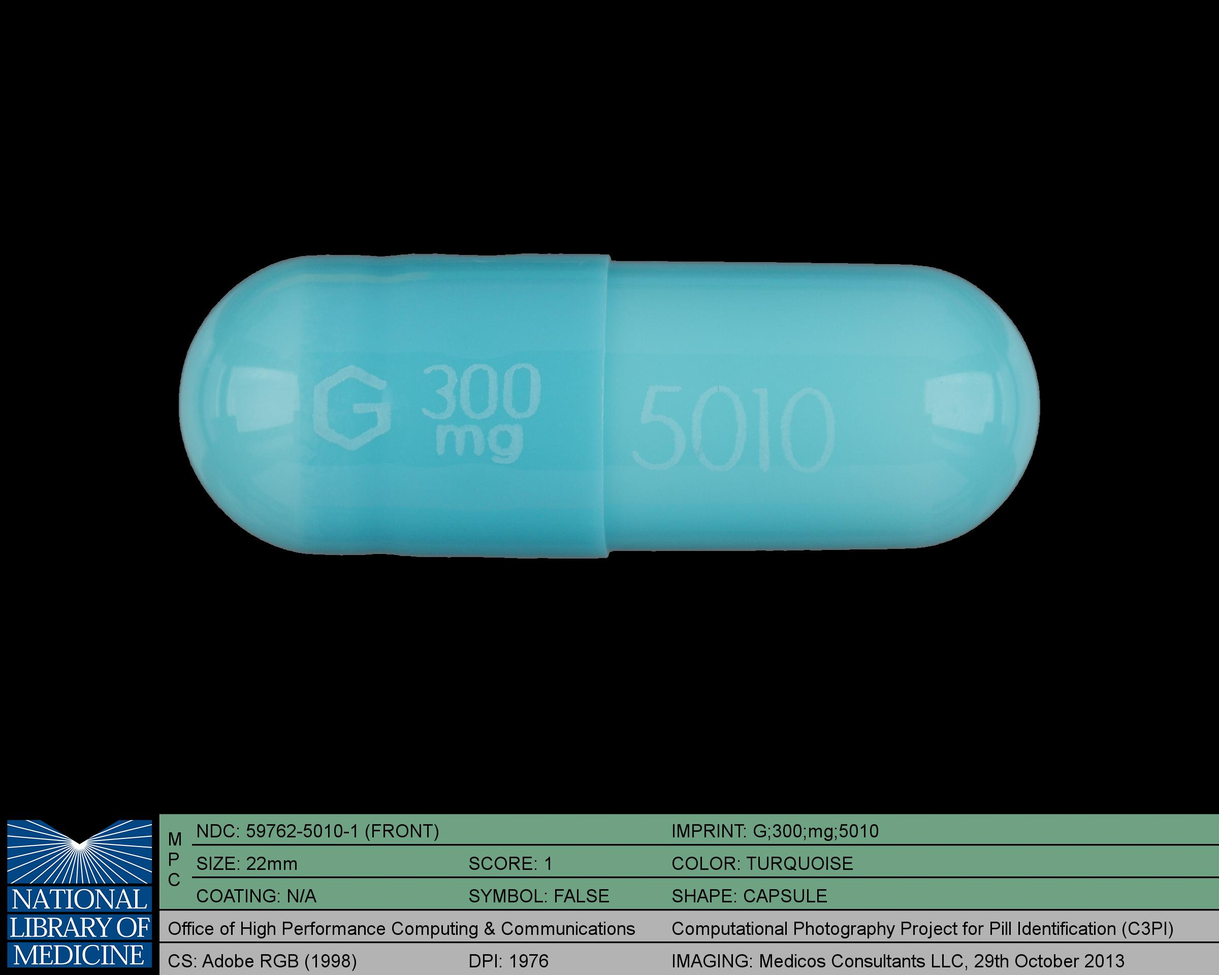Pill: (166, 240, 1051, 572)
